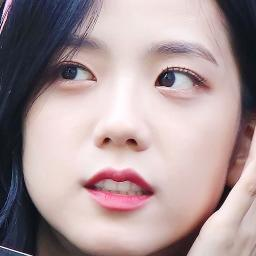face: (29, 0, 231, 252)
